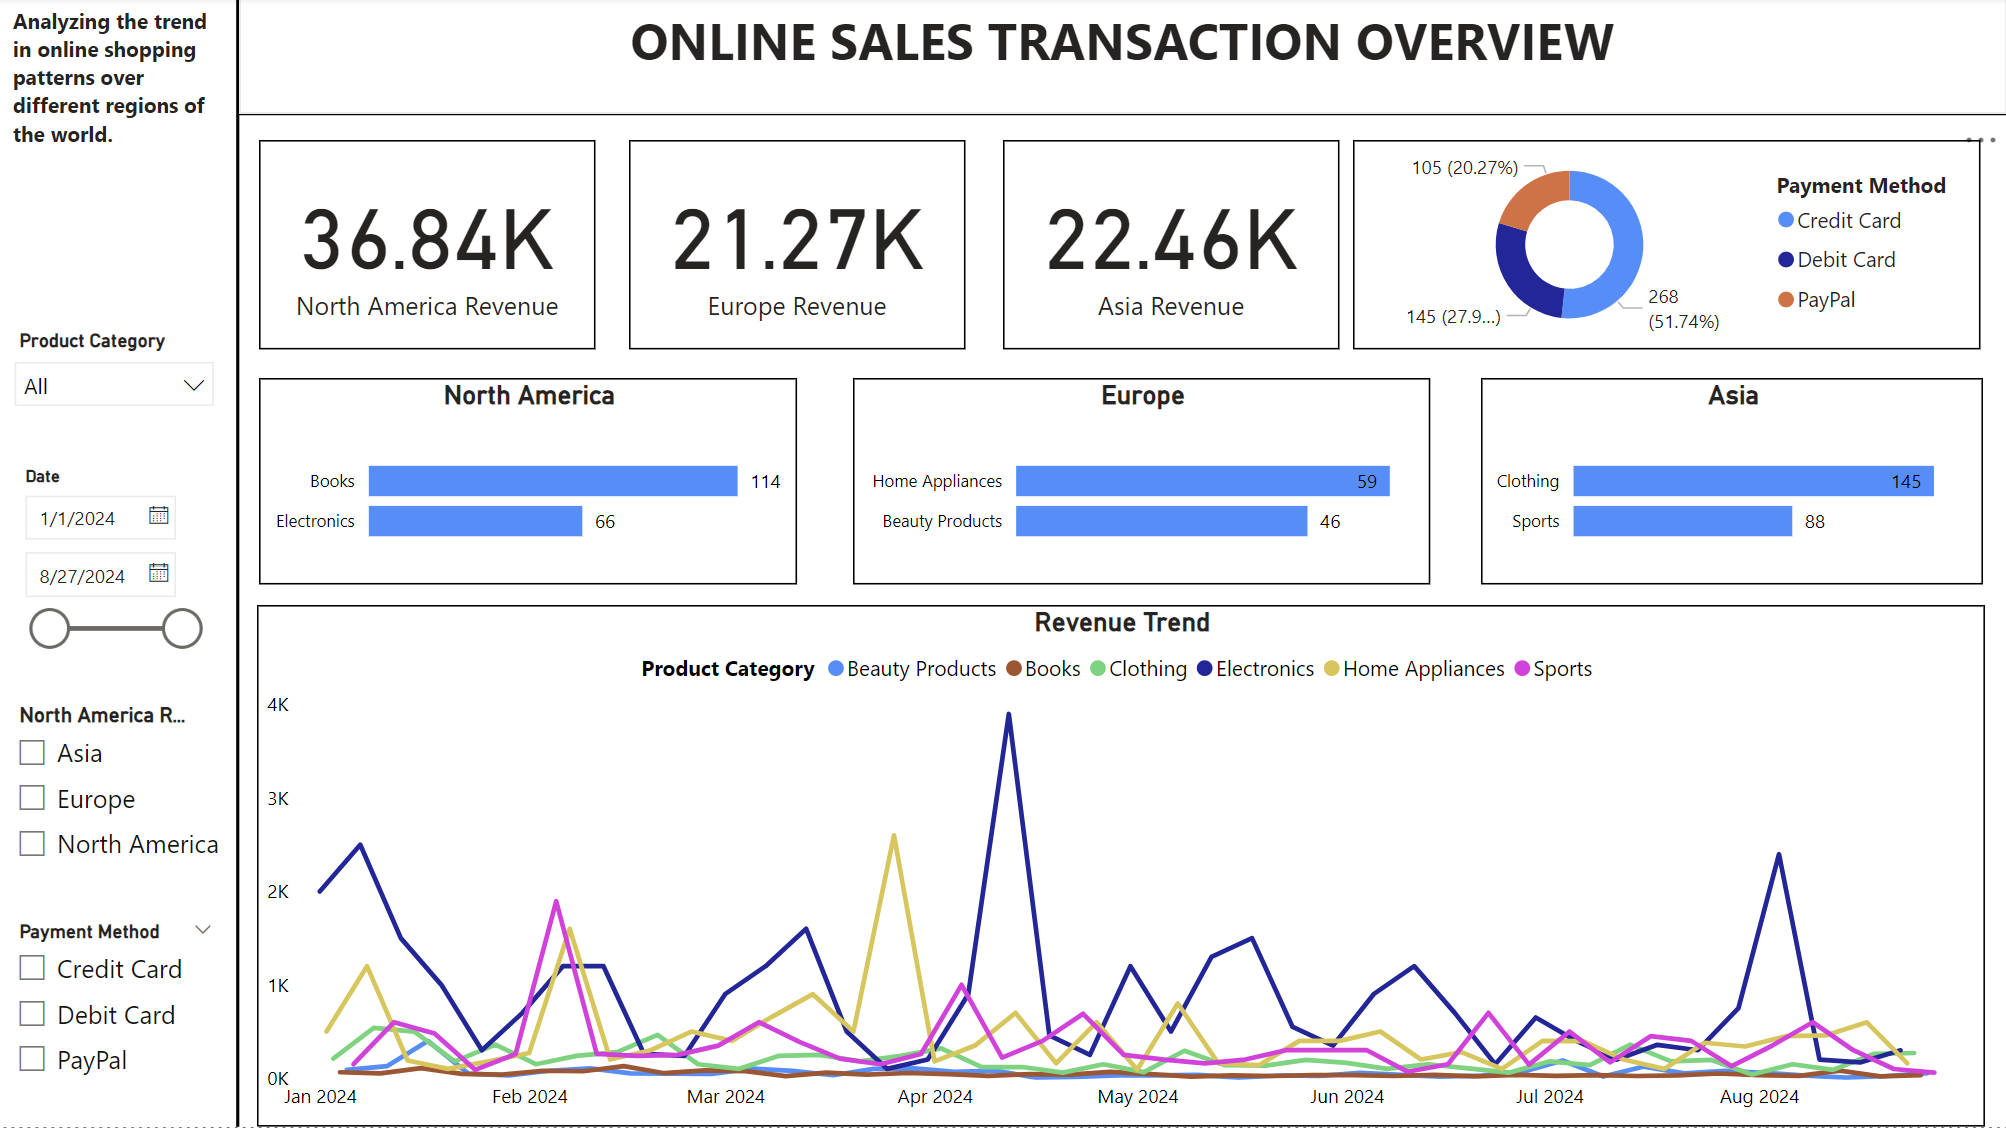

The dashboard page shown, as its layout file describes it:
{"tool":"powerbi","page":{"name":"Page 1","canvas":[1280,720],"ordinal":0},"visuals":[{"type":"shape","box":[13.3,1.1,278.9,718.9],"z":0},{"type":"shape","box":[153.3,0,1126.7,150],"z":1000},{"type":"textbox","box":[153.6,1.1,1126.4,73.6],"z":2000},{"type":"card","fields":{"Values":["Online Sales Data.Revenue"]},"box":[165.5,91.7,214.3,133.3],"z":3000},{"type":"card","fields":{"Values":["Online Sales Data.Revenue"]},"box":[401.2,91.7,214.3,133.3],"z":4000},{"type":"card","fields":{"Values":["Online Sales Data.Revenue"]},"box":[640.5,91.7,214.3,133.3],"z":5000},{"type":"barChart","title":"North America","fields":{"Category":["Online Sales Data.Product Category"],"Y":["Sum(Online Sales Data.Units Sold)"]},"box":[165.5,244,342.9,131],"z":6000},{"type":"barChart","title":"Europe","fields":{"Category":["Online Sales Data.Product Category"],"Y":["Sum(Online Sales Data.Units Sold)"]},"box":[544,244,367.9,131],"z":7000},{"type":"barChart","title":"Asia","fields":{"Category":["Online Sales Data.Product Category"],"Y":["Sum(Online Sales Data.Units Sold)"]},"box":[945.2,244,320.2,131],"z":8000},{"type":"lineChart","title":"Revenue Trend","fields":{"Category":["Online Sales Data.Date"],"Y":["Sum(Online Sales Data.Total Revenue)"],"Series":["Online Sales Data.Product Category"]},"box":[165,387.5,1101.2,332.5],"z":9000},{"type":"slicer","fields":{"Values":["Online Sales Data.Product Category"]},"box":[0,207.9,147,72],"z":10000},{"type":"slicer","fields":{"Values":["Online Sales Data.Date"]},"box":[4,293.9,134,126],"z":11000},{"type":"donutChart","fields":{"Y":["Sum(Online Sales Data.Units Sold)"],"Category":["Online Sales Data.Payment Method"]},"box":[863.3,92.2,400,133.3],"z":12000},{"type":"slicer","fields":{"Values":["Online Sales Data.Region"]},"box":[0,445,146.7,125.6],"z":13000},{"type":"slicer","fields":{"Values":["Online Sales Data.Payment Method"]},"box":[0,583.9,147.8,125.6],"z":14000},{"type":"textbox","box":[4.4,1.1,142.2,193.3],"z":15000}]}

Visuals, with their boxes on the page's 1280x720 design canvas (x1, y1, x2, y2). These are canvas units, not pixel positions in the 2006x1128 screenshot, which may show the page scaled, cropped or inside an application window:
shape: (left=13, top=1, right=292, bottom=720)
shape: (left=153, top=0, right=1280, bottom=150)
textbox: (left=154, top=1, right=1280, bottom=75)
card - Online Sales Data.Revenue: (left=166, top=92, right=380, bottom=225)
card - Online Sales Data.Revenue: (left=401, top=92, right=616, bottom=225)
card - Online Sales Data.Revenue: (left=640, top=92, right=855, bottom=225)
"North America" barChart: (left=166, top=244, right=508, bottom=375)
"Europe" barChart: (left=544, top=244, right=912, bottom=375)
"Asia" barChart: (left=945, top=244, right=1265, bottom=375)
"Revenue Trend" lineChart: (left=165, top=388, right=1266, bottom=720)
slicer - Online Sales Data.Product Category: (left=0, top=208, right=147, bottom=280)
slicer - Online Sales Data.Date: (left=4, top=294, right=138, bottom=420)
donutChart - Sum(Online Sales Data.Units Sold) x Online Sales Data.Payment Method: (left=863, top=92, right=1263, bottom=226)
slicer - Online Sales Data.Region: (left=0, top=445, right=147, bottom=571)
slicer - Online Sales Data.Payment Method: (left=0, top=584, right=148, bottom=710)
textbox: (left=4, top=1, right=147, bottom=194)
